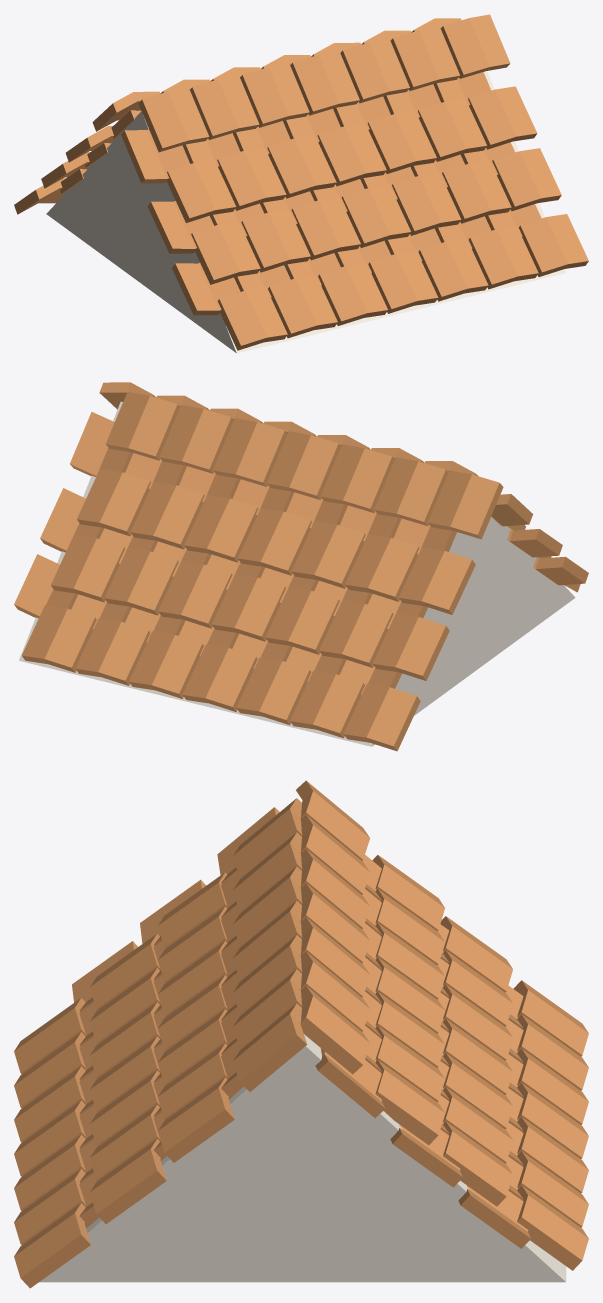
Rendered from RoofTop.fbx.
The picture shows the model from 3 angles, top to bottom: view 1: azimuth 30°, elevation 25°; view 2: azimuth 150°, elevation 25°; view 3: azimuth 270°, elevation 25°; orthographic projection. The views are drawn at different scales.
Parts seen in each view (by area): view 1: Cube.018, Cube.024, Cube.020, Cube.022, Cube.003, Cube.019, Cube.023, Cube.021, Cube.026, Cube.032, Cube.028, Cube.030; view 2: Cube.026, Cube.032, Cube.028, Cube.030, Cube.003, Cube.027, Cube.031, Cube.029, Cube.018, Cube.021, Cube.023, Cube.019; view 3: Cube.003, Cube.024, Cube.018, Cube.026, Cube.032, Cube.022, Cube.020, Cube.030, Cube.028, Cube.027, Cube.031, Cube.019 (+3 smaller).
Part boxes in pixels (x1,y1,x2,y2): Cube.018: [138, 14, 510, 152]; Cube.024: [218, 214, 588, 350]; Cube.020: [166, 86, 537, 222]; Cube.022: [191, 148, 561, 284]; Cube.003: [46, 71, 566, 353]; Cube.019: [121, 72, 491, 183]; Cube.023: [172, 204, 541, 315]; Cube.021: [147, 142, 515, 253]; Cube.026: [92, 18, 461, 131]; Cube.032: [14, 178, 65, 214]; Cube.028: [65, 126, 115, 162]; Cube.030: [41, 152, 90, 188]; Cube.026: [106, 392, 503, 539]; Cube.032: [22, 605, 420, 751]; Cube.028: [77, 469, 475, 614]; Cube.030: [51, 535, 449, 680]; Cube.003: [19, 401, 575, 746]; Cube.027: [70, 412, 456, 554]; Cube.031: [14, 554, 401, 695]; Cube.029: [40, 488, 427, 629]; Cube.018: [99, 382, 478, 476]; Cube.021: [507, 529, 562, 557]; Cube.023: [533, 556, 588, 585]; Cube.019: [491, 494, 533, 526]; Cube.003: [39, 1034, 566, 1282]; Cube.024: [14, 997, 90, 1288]; Cube.018: [232, 798, 307, 1091]; Cube.026: [296, 780, 370, 1074]; Cube.032: [513, 980, 588, 1270]; Cube.022: [90, 934, 166, 1223]; Cube.020: [158, 872, 234, 1162]; Cube.030: [440, 916, 512, 1206]; Cube.028: [372, 855, 444, 1145]; Cube.027: [315, 855, 385, 1117]; Cube.031: [458, 985, 530, 1248]; Cube.019: [217, 807, 279, 1099].
Bounding box in the file's own units: 226 × 110 × 216.
